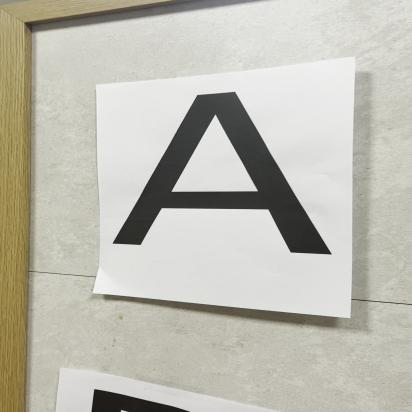seat: (102, 89, 359, 297)
